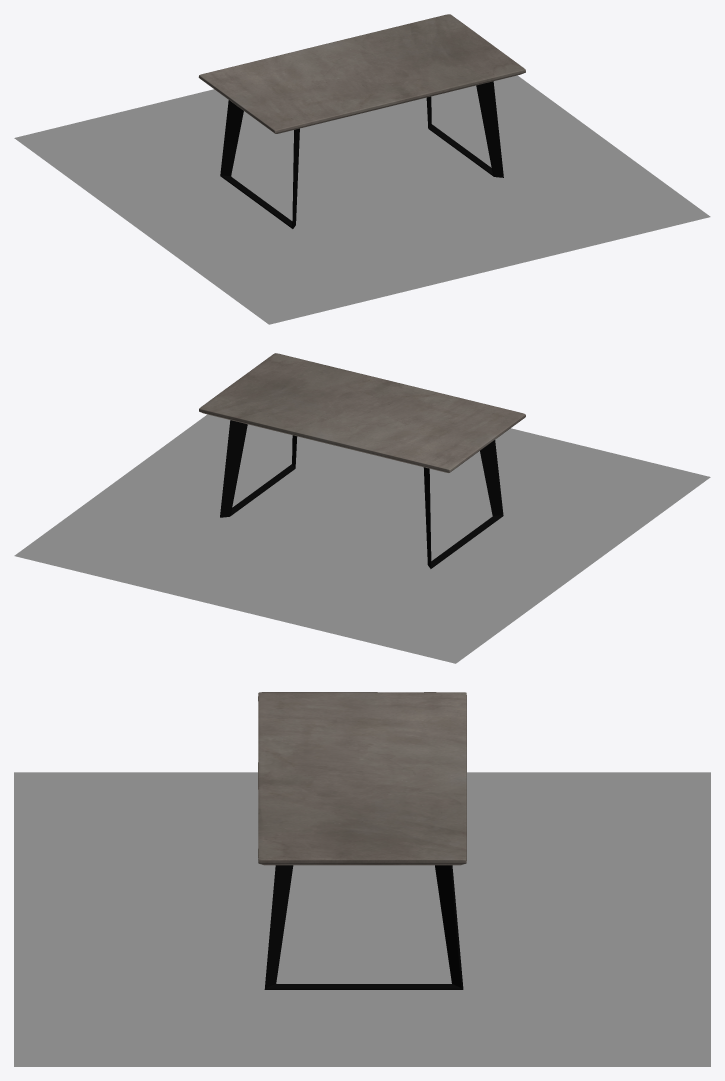
Rendered from bonediningtable_sketchfab.fbx.
The picture shows the model from 3 angles, top to bottom: view 1: azimuth 30°, elevation 25°; view 2: azimuth 150°, elevation 25°; view 3: azimuth 270°, elevation 25°; orthographic projection. The views are drawn at different scales.
Parts seen in each view (by area): view 1: Plane001, Boone_Dining_Table; view 2: Plane001, Boone_Dining_Table; view 3: Plane001, Boone_Dining_Table.
Boxes of the visible parts, bbox=[...] form: Plane001: bbox=[14, 75, 710, 324]; Boone_Dining_Table: bbox=[198, 14, 525, 228]; Plane001: bbox=[14, 414, 710, 663]; Boone_Dining_Table: bbox=[199, 353, 525, 568]; Plane001: bbox=[14, 772, 710, 1066]; Boone_Dining_Table: bbox=[258, 692, 466, 989].
Size of the model in its own units: 334 by 76.2 by 334.
3 materials, 1 textured.
